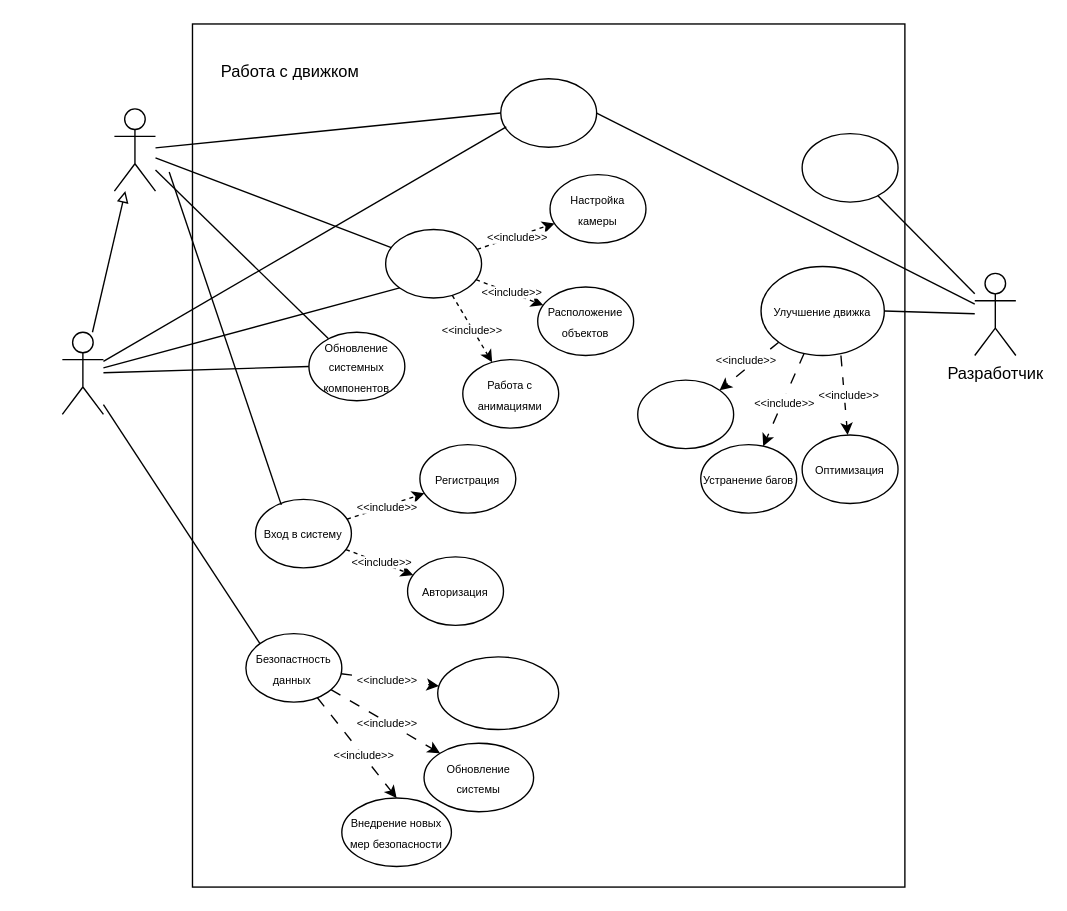
The diagram is 1067 pixels wide and 911 high, and some of its shapes have lost their labels. The shapes that lost their labels are listed below. From the top down, each one's box as (x1, y1, x2, y2) in pixels, then its label:
(499, 77, 597, 147): Работа с версией
(113, 108, 155, 191): Пользователь
(801, 132, 898, 202): Работа с библиотеками
(384, 228, 482, 298): Создание сцены
(61, 331, 103, 414): Администратор
(636, 379, 734, 449): Сбор информации
(436, 656, 559, 730): Работа с аудитами
